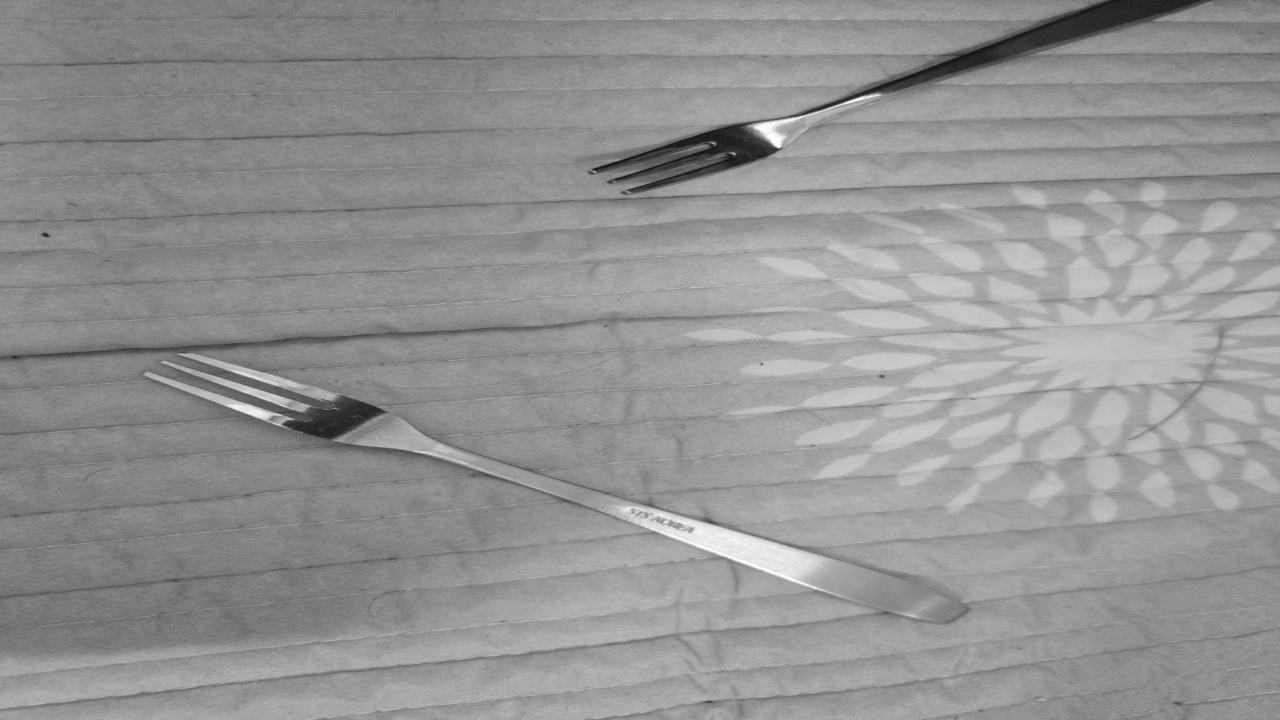fork: (157, 354, 922, 623), (574, 4, 1212, 202)
